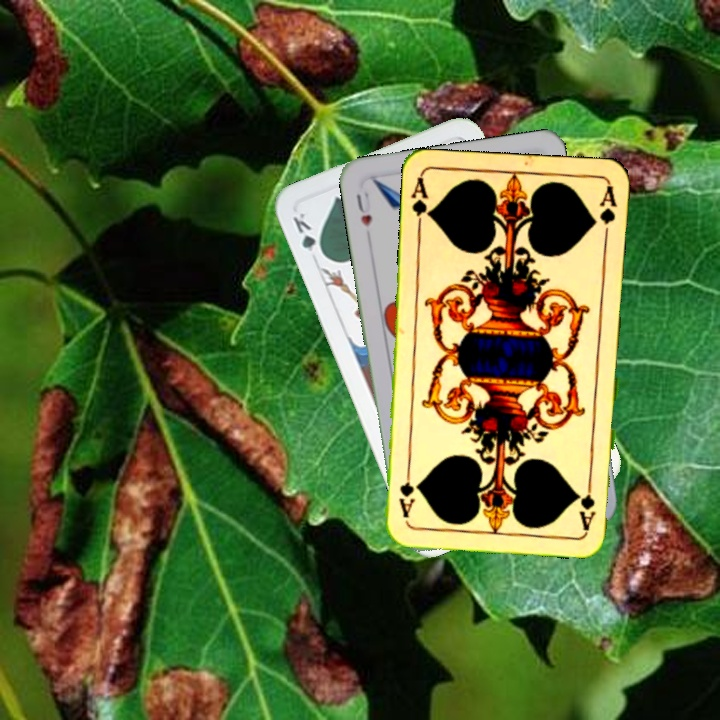GA: (408, 173, 434, 233), (577, 473, 598, 532)
GK: (288, 208, 327, 261)
HU: (352, 187, 374, 229)
